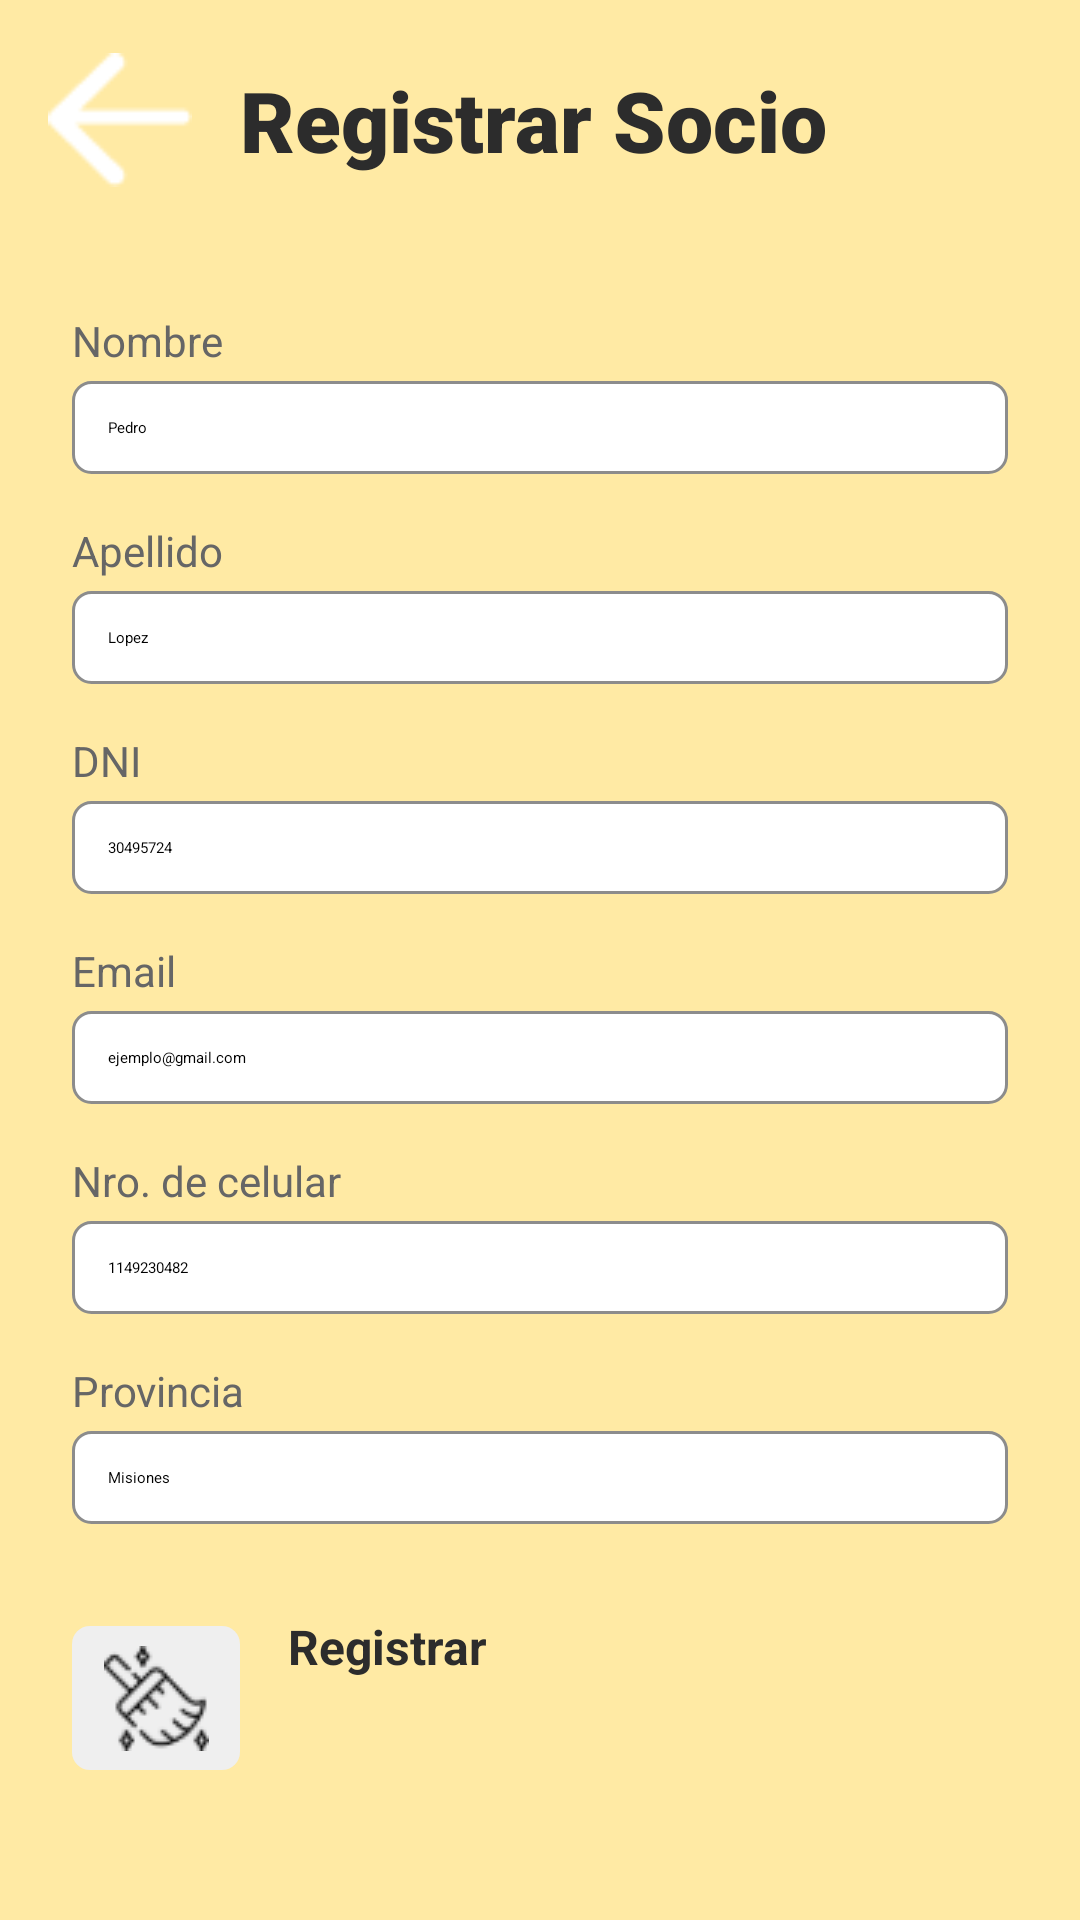

Locate icon controls on the screen. Image size 1080px x 1920px, boxes as [x1, y1, x2, y2].
atras: [48, 53, 192, 185]
limpiar: [72, 1626, 240, 1770]
